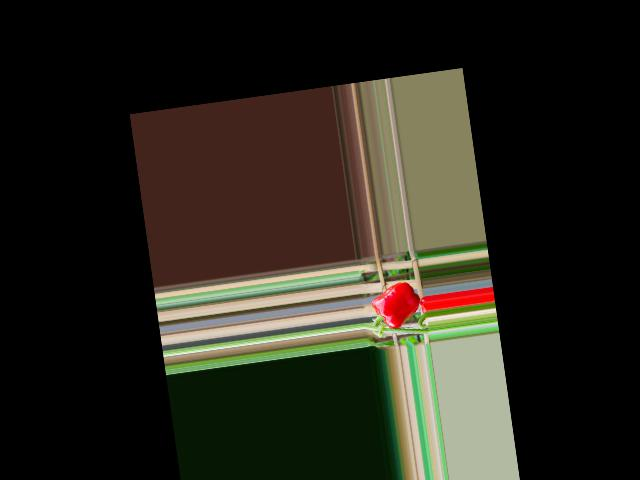bell_pepper: (368, 277, 423, 334)
